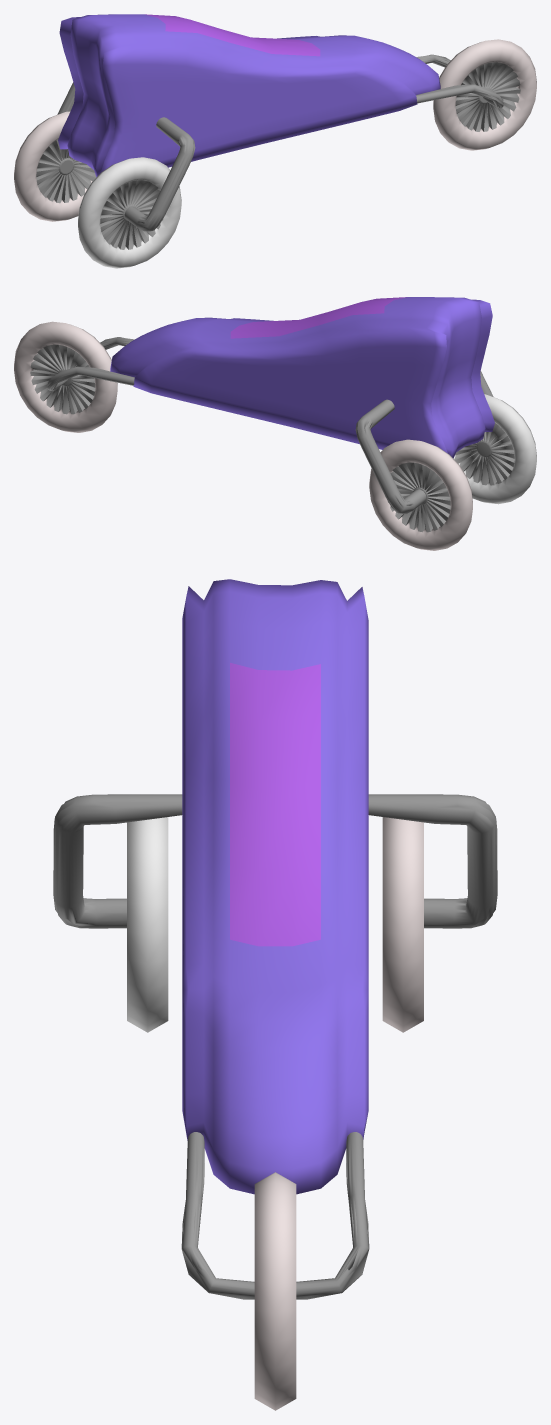
The model's file is MotoNautilusLow.fbx.
The picture shows the model from 3 angles, top to bottom: view 1: azimuth 30°, elevation 25°; view 2: azimuth 150°, elevation 25°; view 3: azimuth 270°, elevation 25°; orthographic projection. The views are drawn at different scales.
Parts seen in each view (by area): view 1: Torus.004; view 2: Torus.004; view 3: Torus.004.
Boxes of the visible parts, x1,y1,x2,y2 form: Torus.004: [14, 14, 536, 268]; Torus.004: [14, 297, 536, 550]; Torus.004: [53, 579, 497, 1410].
Bounding box in the file's own units: 0.9731 × 1.06 × 2.48.
